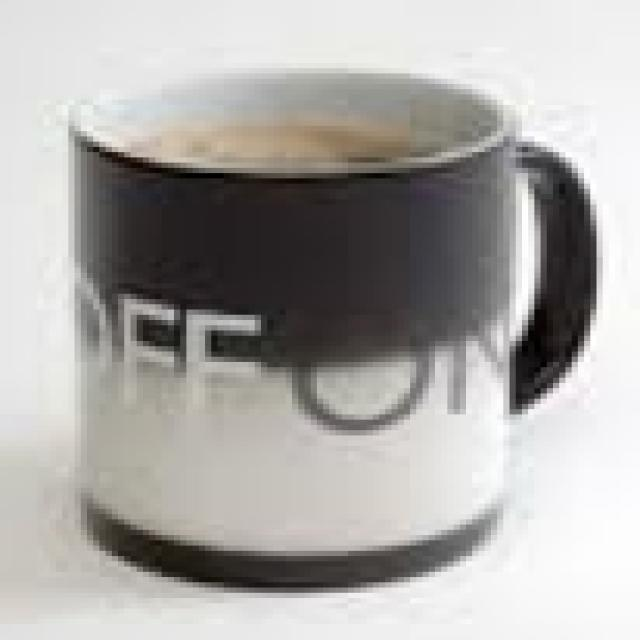taza: (64, 66, 604, 599)
